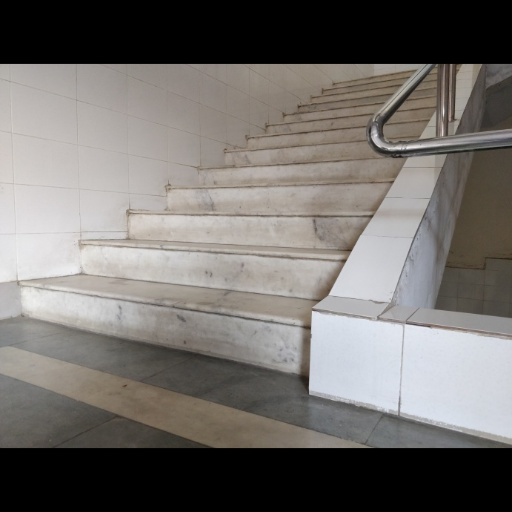Stairs: (22, 72, 408, 374)
